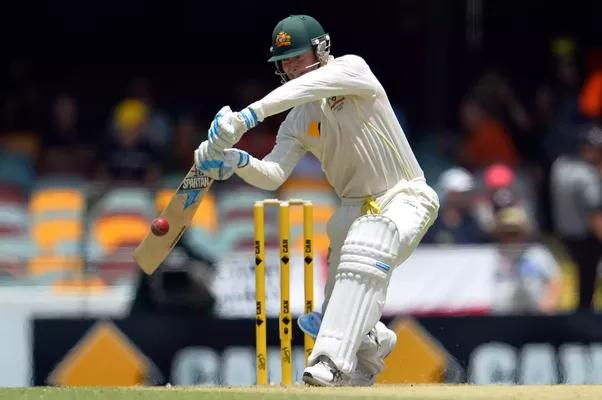batsman: (131, 12, 442, 387)
